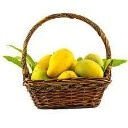mango: (47, 49, 72, 76)
